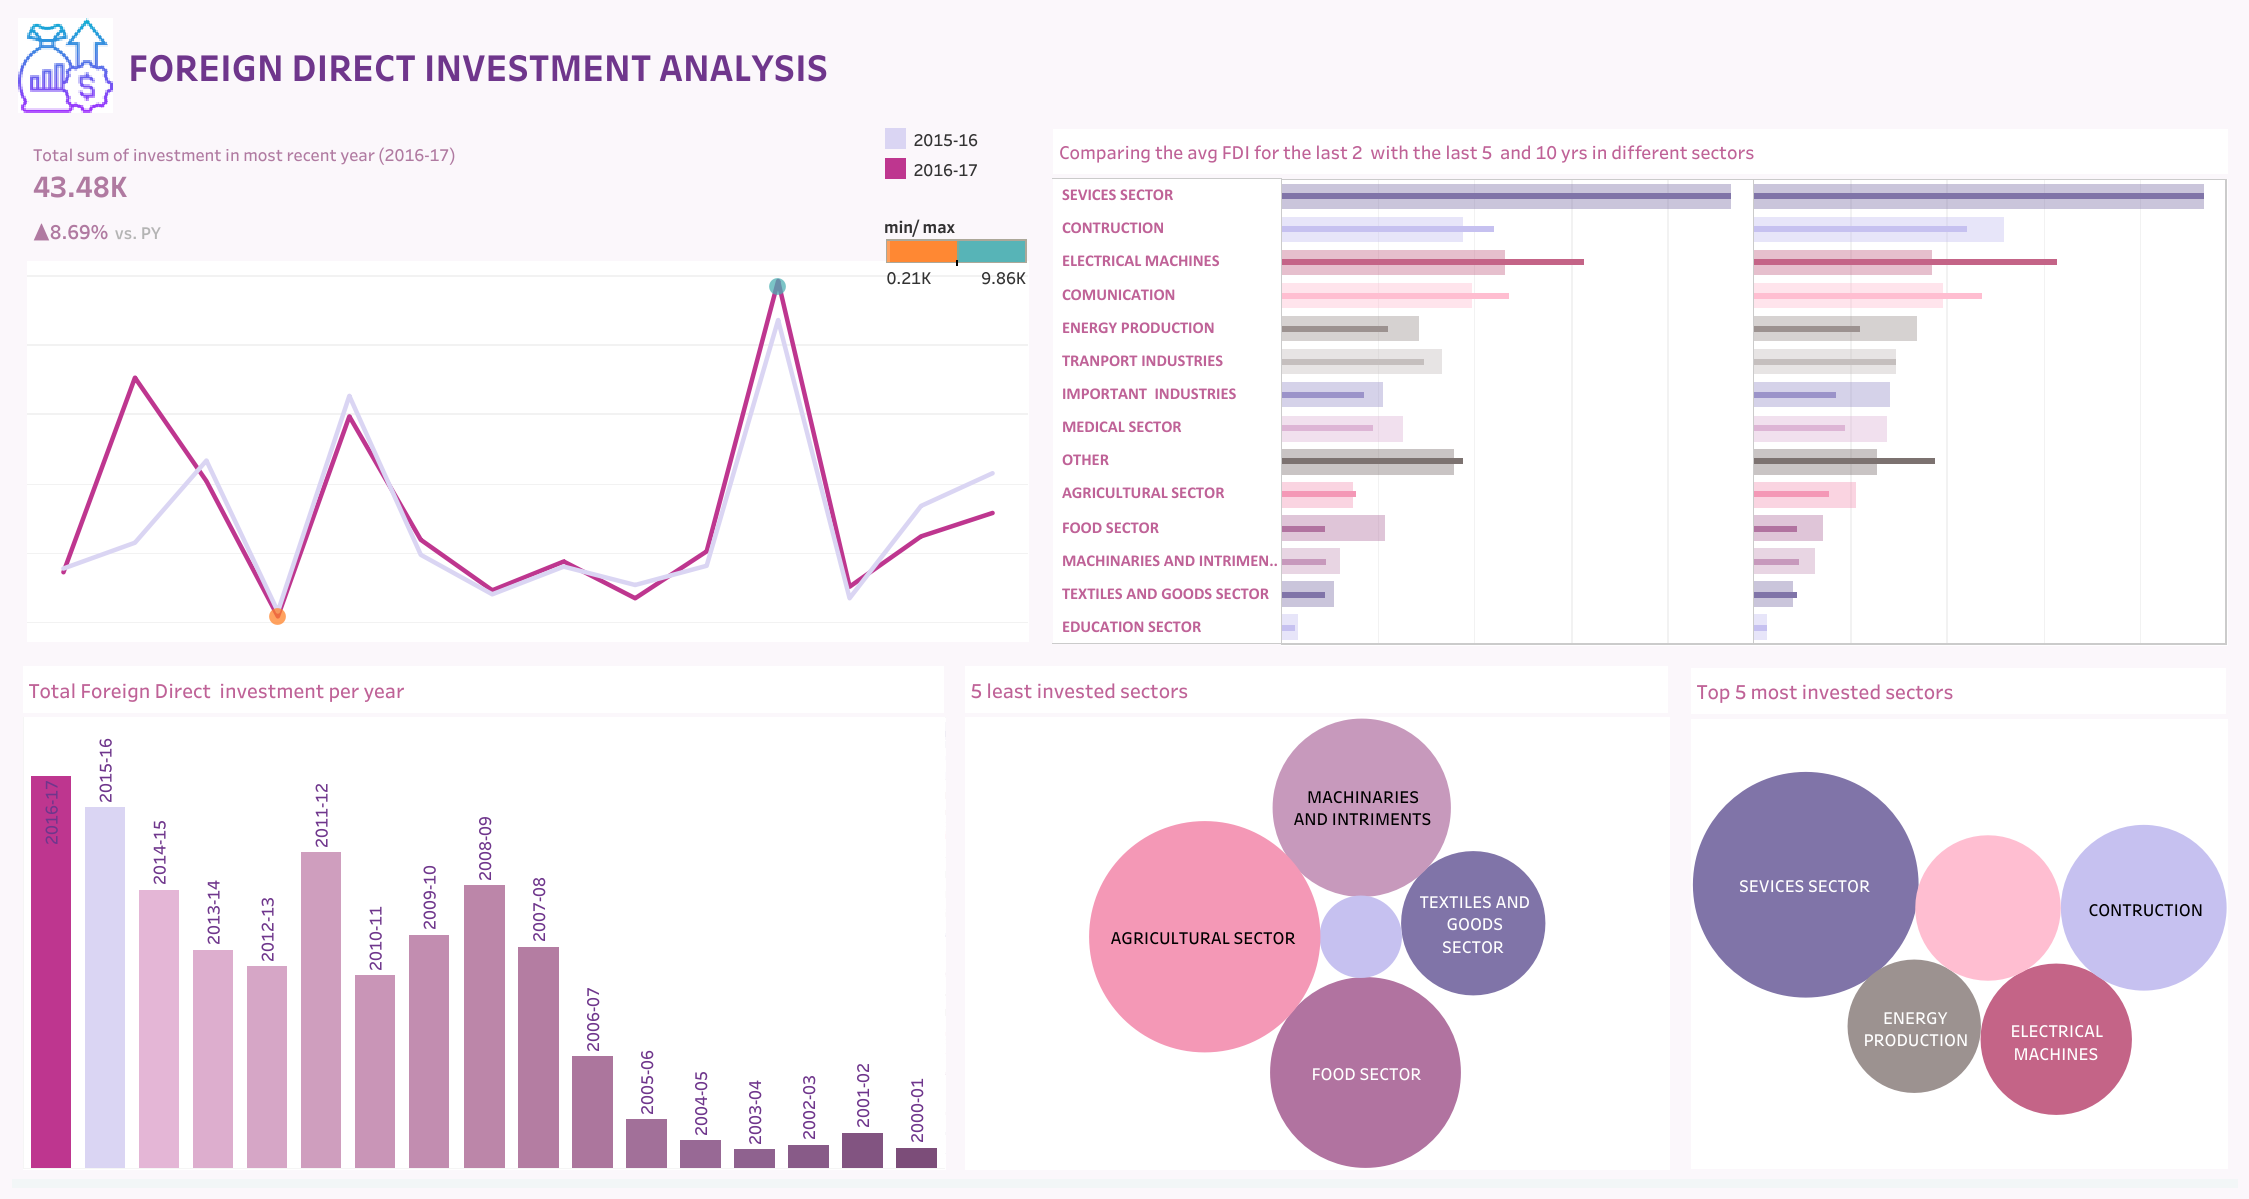

Layout of this report page (visuals, bound fields, positions):
{"tool":"tableau","page":{"name":"Dashboard 1","canvas":[1500,800],"ordinal":0},"visuals":[{"type":"image","param":"Image/images.png","box":[8,8,71,71]},{"type":"text","box":[79,8,748.5,71]},{"type":"blank","box":[827.5,8,664.5,71]},{"type":"legend","title":"Sheet 2","param":"[federated.1o4wsr51uuxwi61egve6g1cv3l41].[:Measure Names]","box":[583,78,110,57]},{"type":"worksheet","title":"Sheet 2","mark":"Line","rows":["Calculation_986288321966403589"],"cols":["Sector (modified sectors)"],"box":[8,79,687,358]},{"type":"worksheet","title":"Sheet 4","mark":"Bar","rows":["Sector (modified sectors)"],"cols":["avg_last_2yrs","avg_last_5yrs","avg_last_2yrs","avg_last_10yrs"],"box":[695,79,797,358]},{"type":"legend","title":"Sheet 2","param":"[federated.1o4wsr51uuxwi61egve6g1cv3l41].[usr:Calculation_986288321966403589:qk]","box":[583,135,110,75]},{"type":"worksheet","title":"Sheet 1","mark":"Bar","box":[8,437,627.8,349]},{"type":"worksheet","title":"least invested sectors","mark":"Circle","box":[635.8,437,483,349]},{"type":"worksheet","title":"most invested sectors","mark":"Circle","box":[1118.8,437,373,349]}]}

Visuals, with their boxes in screenshot pixels (x1, y1, x2, y2), scaled from the page's 1500x800 canvas onto the 2249x1199 screenshot:
image: locate(12, 12, 118, 118)
text: locate(118, 12, 1241, 118)
blank: locate(1241, 12, 2237, 118)
"Sheet 2" legend: locate(874, 117, 1039, 202)
"Sheet 2" worksheet (Line marks): locate(12, 118, 1042, 655)
"Sheet 4" worksheet (Bar marks): locate(1042, 118, 2237, 655)
"Sheet 2" legend: locate(874, 202, 1039, 315)
"Sheet 1" worksheet (Bar marks): locate(12, 655, 953, 1178)
"least invested sectors" worksheet (Circle marks): locate(953, 655, 1677, 1178)
"most invested sectors" worksheet (Circle marks): locate(1677, 655, 2237, 1178)
